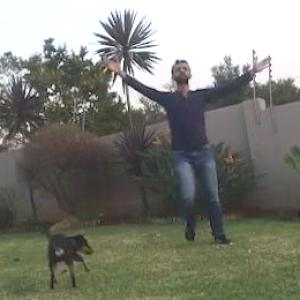takeoff: (113, 62, 269, 224)
